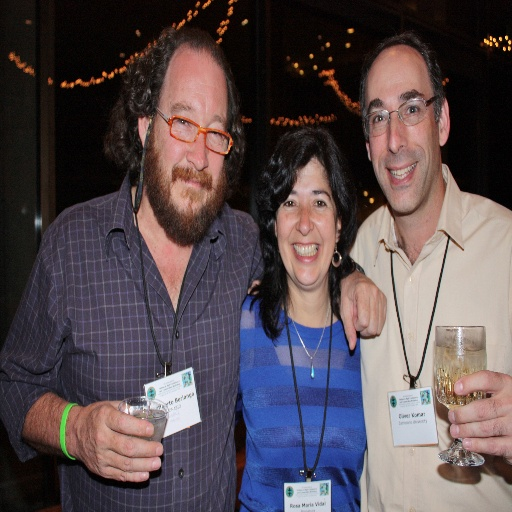hand: (55, 394, 163, 484), (448, 369, 511, 465), (338, 267, 387, 352), (248, 281, 261, 297)
